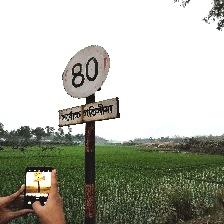Speed-limit: (59, 44, 118, 127)
